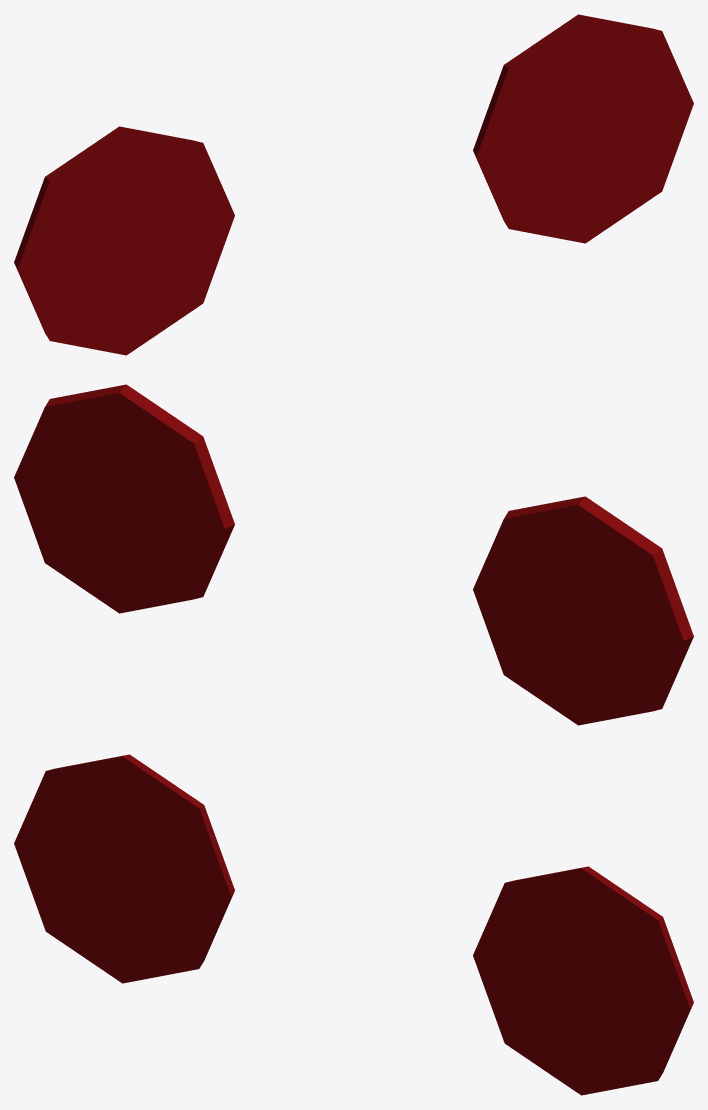
Rendered from VeilEngineGlow.obj.
3 renders of one model, top to bottom at view 1: azimuth 30°, elevation 25°; view 2: azimuth 150°, elevation 25°; view 3: azimuth 330°, elevation 25°, orthographic.
Parts seen in each view (by area): view 1: VeilEngineGlow; view 2: VeilEngineGlow; view 3: VeilEngineGlow.
Part boxes in pixels (box(x1,y1,x2,y2)): VeilEngineGlow: box(14, 14, 693, 355); VeilEngineGlow: box(14, 384, 693, 725); VeilEngineGlow: box(14, 754, 693, 1095).
Bounding box in the file's own units: 1.09 × 0.35 × 0.02.
